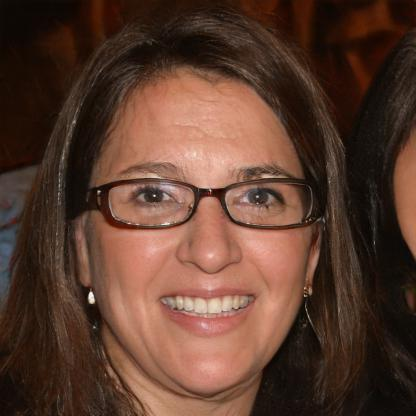glasses: (92, 173, 316, 234)
